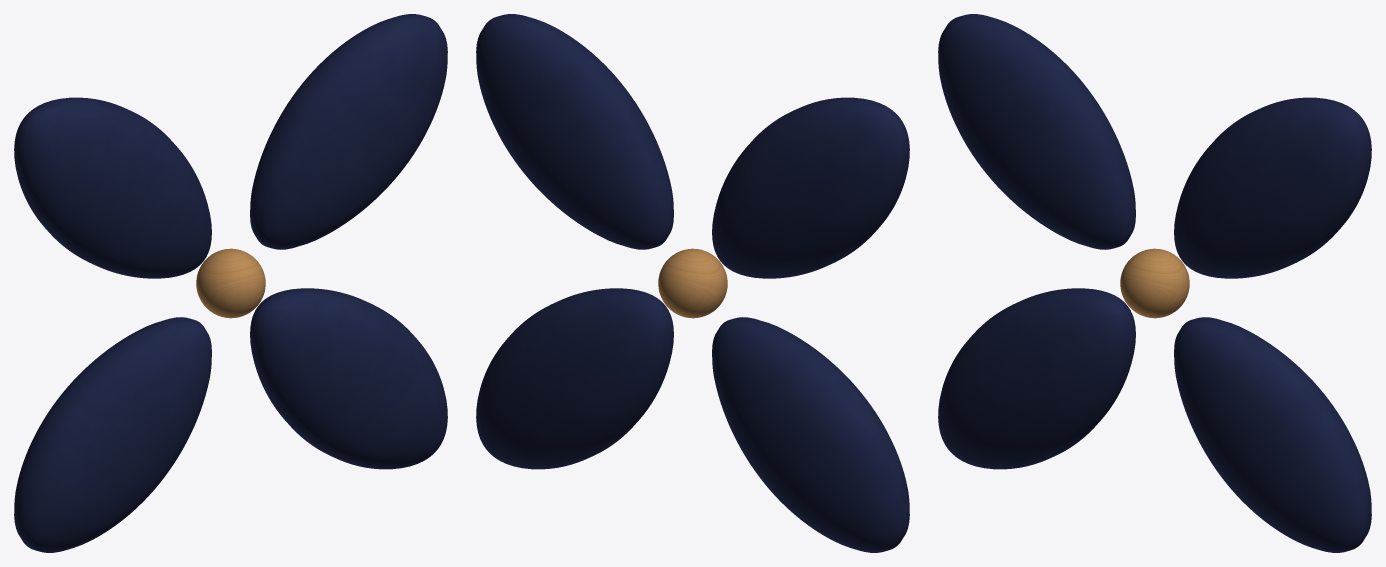
The model's file is pusaka-flower-v1.glb.
3 views of the same model, side by side, from view 1: azimuth 30°, elevation 25°; view 2: azimuth 150°, elevation 25°; view 3: azimuth 330°, elevation 25° (orthographic).
Visible parts, largest first — view 1: Petal_SW, Petal_NE, Petal_NW, Petal_SE, Seed; view 2: Petal_NE, Petal_SW, Petal_NW, Petal_SE, Seed; view 3: Petal_NW, Petal_SE, Petal_NE, Petal_SW, Seed.
Part boxes in pixels (bbox=[...]): Petal_SW: bbox=[14, 317, 211, 552]; Petal_NE: bbox=[250, 14, 447, 249]; Petal_NW: bbox=[14, 97, 211, 278]; Petal_SE: bbox=[250, 288, 447, 469]; Seed: bbox=[196, 248, 265, 318]; Petal_NE: bbox=[476, 14, 673, 249]; Petal_SW: bbox=[712, 317, 909, 552]; Petal_NW: bbox=[712, 97, 909, 278]; Petal_SE: bbox=[476, 288, 673, 469]; Seed: bbox=[658, 248, 727, 318]; Petal_NW: bbox=[938, 14, 1135, 249]; Petal_SE: bbox=[1174, 317, 1371, 552]; Petal_NE: bbox=[1174, 97, 1371, 278]; Petal_SW: bbox=[938, 288, 1135, 469]; Seed: bbox=[1120, 248, 1189, 318].
Size of the model in its own units: 2 by 2 by 0.3405.
Materials: 2 (2 with a texture image).
